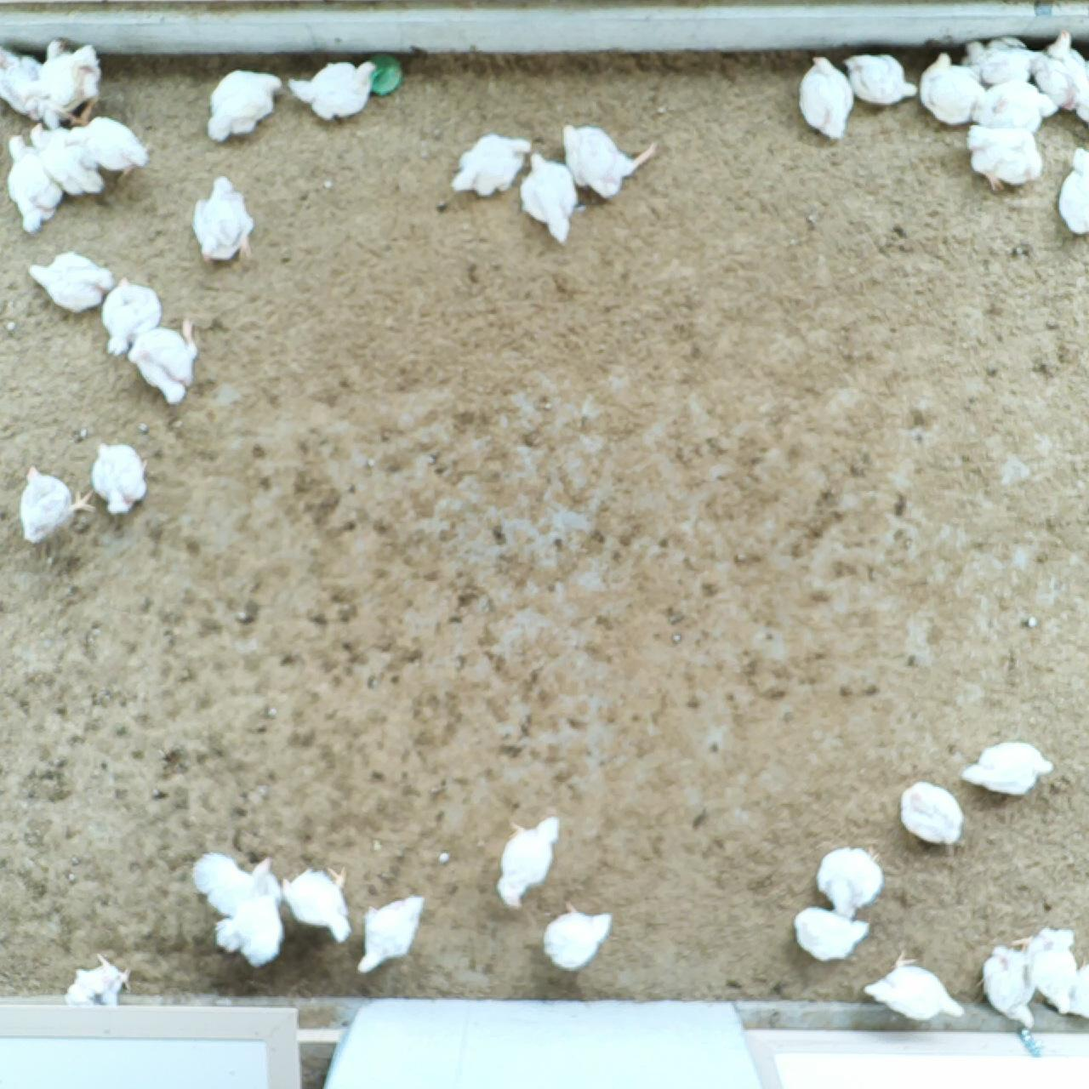chicken: (562, 123, 655, 198), (864, 953, 963, 1019), (193, 852, 285, 919), (129, 321, 198, 406), (19, 468, 95, 544), (40, 38, 104, 123), (498, 817, 559, 906), (7, 134, 61, 234), (207, 70, 281, 142), (193, 177, 254, 264), (1034, 30, 1089, 126), (522, 153, 579, 244), (28, 126, 104, 194), (288, 61, 374, 121), (960, 740, 1053, 795), (214, 895, 285, 967), (282, 868, 351, 942), (357, 895, 425, 970), (968, 123, 1042, 190), (798, 54, 855, 140), (453, 134, 532, 196), (27, 253, 111, 311), (1021, 927, 1074, 1018), (102, 278, 162, 356), (919, 53, 984, 125), (983, 946, 1038, 1031), (970, 83, 1058, 136), (817, 847, 883, 917), (543, 904, 613, 970), (960, 36, 1038, 95), (2, 44, 53, 126), (794, 909, 870, 964), (900, 781, 963, 845), (844, 51, 917, 106), (75, 117, 145, 173), (94, 442, 147, 515), (66, 955, 134, 1008), (1057, 146, 1089, 236), (1069, 963, 1089, 1017)
